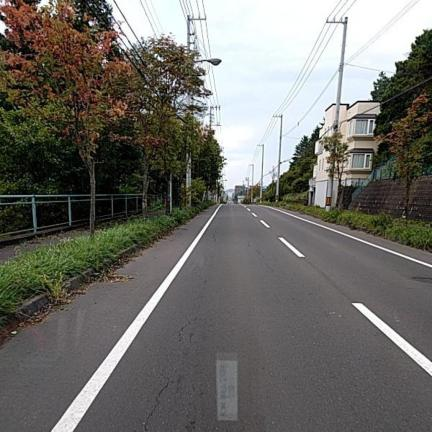Road: (0, 206, 431, 431)
